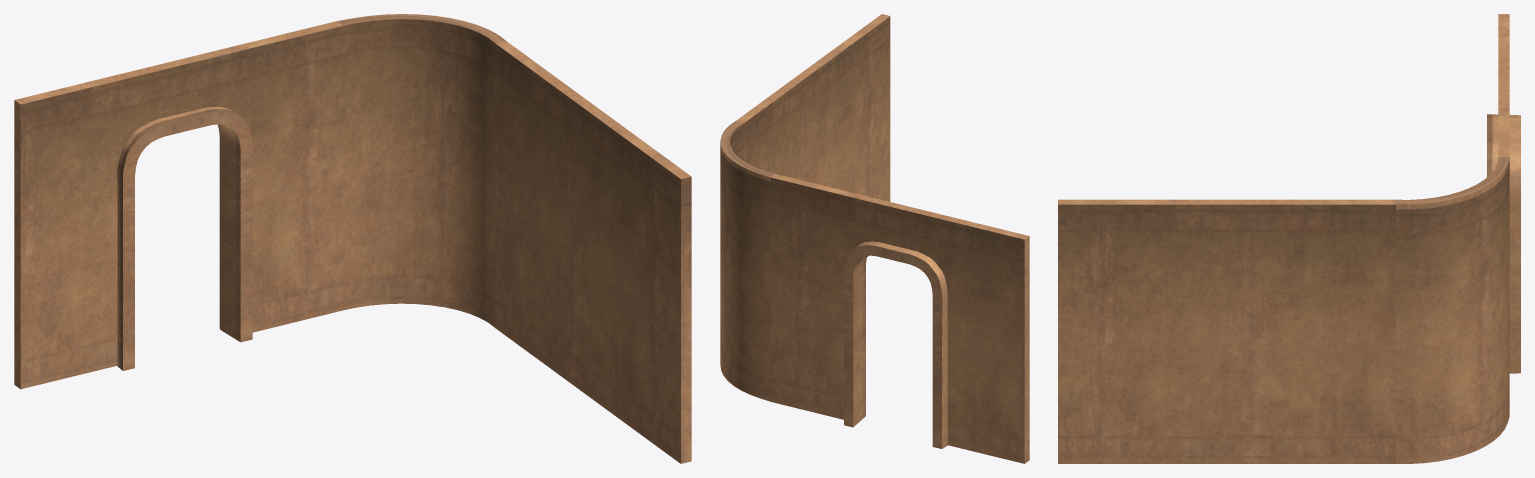
File: Wall_1_E.fbx
The picture shows the model from 3 angles, left to right: view 1: azimuth 30°, elevation 25°; view 2: azimuth 150°, elevation 25°; view 3: azimuth 270°, elevation 25°; orthographic projection. The views are drawn at different scales.
Parts seen in each view (by area): view 1: Wall_1_E; view 2: Wall_1_E; view 3: Wall_1_E.
Boxes of the visible parts, <box> form: Wall_1_E: <box>14,14,691,463</box>; Wall_1_E: <box>720,14,1029,463</box>; Wall_1_E: <box>1058,14,1520,463</box>.
Bounding box in the file's own units: 4 × 2.54 × 4.1.
